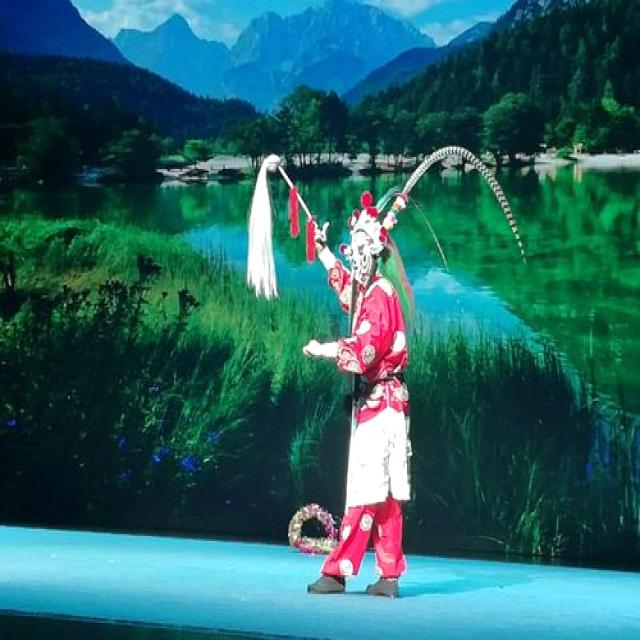Reeves-s Pheasant: (402, 142, 526, 267)
